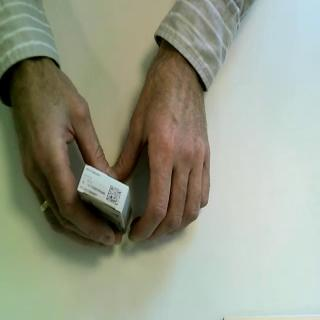nobligan_retard200mg: (76, 163, 134, 236)
